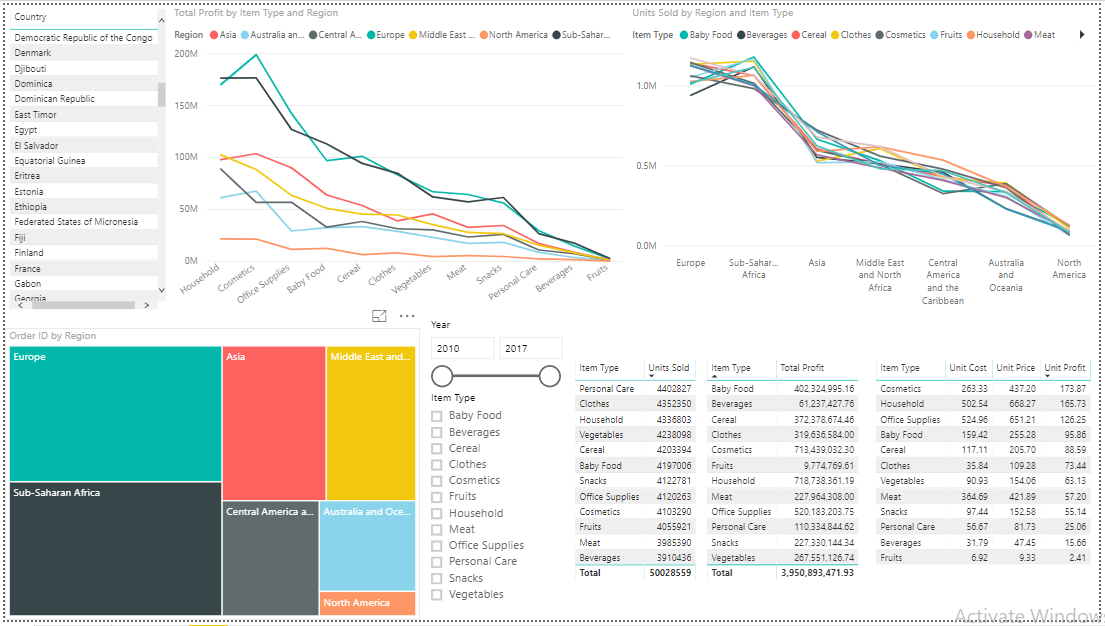

This screenshot's page, from the dashboard's own definition file:
{"tool":"powerbi","page":{"name":"Page 1","canvas":[1280,720],"ordinal":1},"visuals":[{"type":"lineChart","fields":{"Y":["Sum(Sales Records.Units Sold)"],"Category":["Sales Records.Item Type"],"Series":["Sales Records.Country"]},"box":[729.1,0,550.9,360.6],"z":2},{"type":"tableEx","fields":{"Values":["Sales Records.Item Type","Sum(Sales Records.Units Sold)"]},"box":[661.3,411.1,154.3,270.1],"z":3},{"type":"treemap","fields":{"Group":["Sales Records.Region"],"Values":["CountNonNull(Sales Records.Order ID)"]},"box":[0,377.9,485.7,342],"z":4},{"type":"lineChart","fields":{"Y":["Sum(Sales Records.Total Profit)"],"Category":["Sales Records.Item Type"],"Series":["Sales Records.Country"]},"box":[193.2,0,536.2,360.6],"z":5},{"type":"tableEx","fields":{"Values":["Sales Records.Item Type","Sum(Sales Records.Total Profit)"]},"box":[816,410.9,188.5,270.4],"z":6},{"type":"tableEx","fields":{"Values":["Sales Records.Item Type","Sales Records.Unit Cost","Sales Records.Unit Price","Sales Records.Unit Profit"]},"box":[1013.9,411.1,266.1,267.4],"z":6},{"type":"slicer","fields":{"Values":["Sales Records.Item Type"]},"box":[486,446,129.4,274],"z":7},{"type":"tableEx","fields":{"Values":["Sales Records.Country"]},"box":[0,0,192.9,360.6],"z":8},{"type":"slicer","fields":{"Values":["Sales Records.Order Date.Variation.Date Hierarchy.Year"]},"box":[485.7,360.6,175.6,99.8],"z":9}]}

Visuals, with their boxes on the page's 1280x720 design canvas (x1, y1, x2, y2). These are canvas units, not pixel positions in the 1105x626 screenshot, which may show the page scaled, cropped or inside an application window:
lineChart - Sum(Sales Records.Units Sold) x Sales Records.Item Type: bbox=[729, 0, 1280, 361]
tableEx - Sales Records.Item Type x Sum(Sales Records.Units Sold): bbox=[661, 411, 816, 681]
treemap - Sales Records.Region x CountNonNull(Sales Records.Order ID): bbox=[0, 378, 486, 720]
lineChart - Sum(Sales Records.Total Profit) x Sales Records.Item Type: bbox=[193, 0, 729, 361]
tableEx - Sales Records.Item Type x Sum(Sales Records.Total Profit): bbox=[816, 411, 1004, 681]
tableEx - Sales Records.Item Type x Sales Records.Unit Cost: bbox=[1014, 411, 1280, 678]
slicer - Sales Records.Item Type: bbox=[486, 446, 615, 720]
tableEx - Sales Records.Country: bbox=[0, 0, 193, 361]
slicer - Sales Records.Order Date.Variation.Date Hierarchy.Year: bbox=[486, 361, 661, 460]
